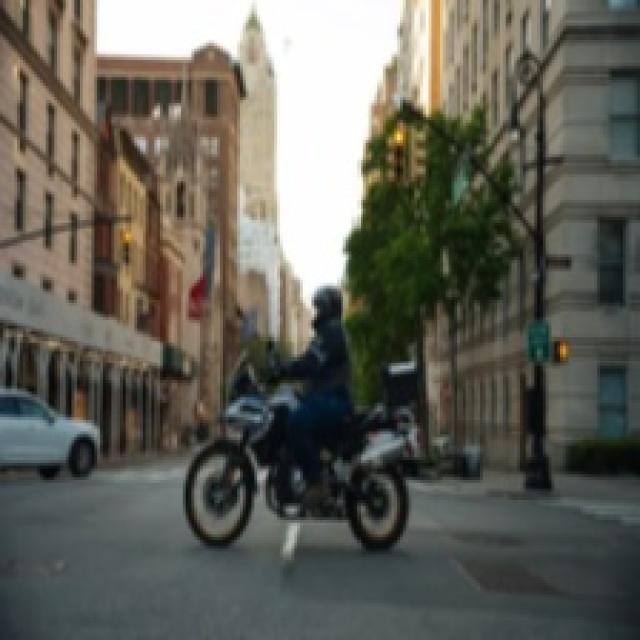bike: (170, 367, 432, 552)
car: (4, 373, 115, 483)
